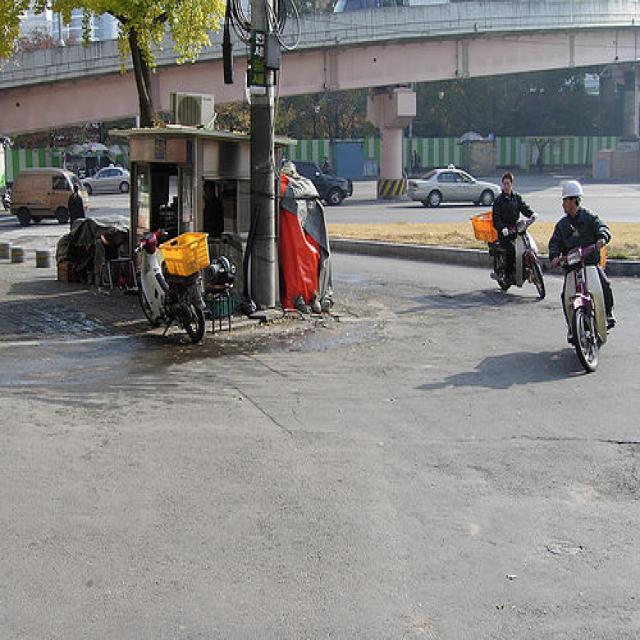motor: (132, 228, 207, 343), (561, 242, 608, 373), (486, 217, 544, 294), (106, 264, 140, 300)
